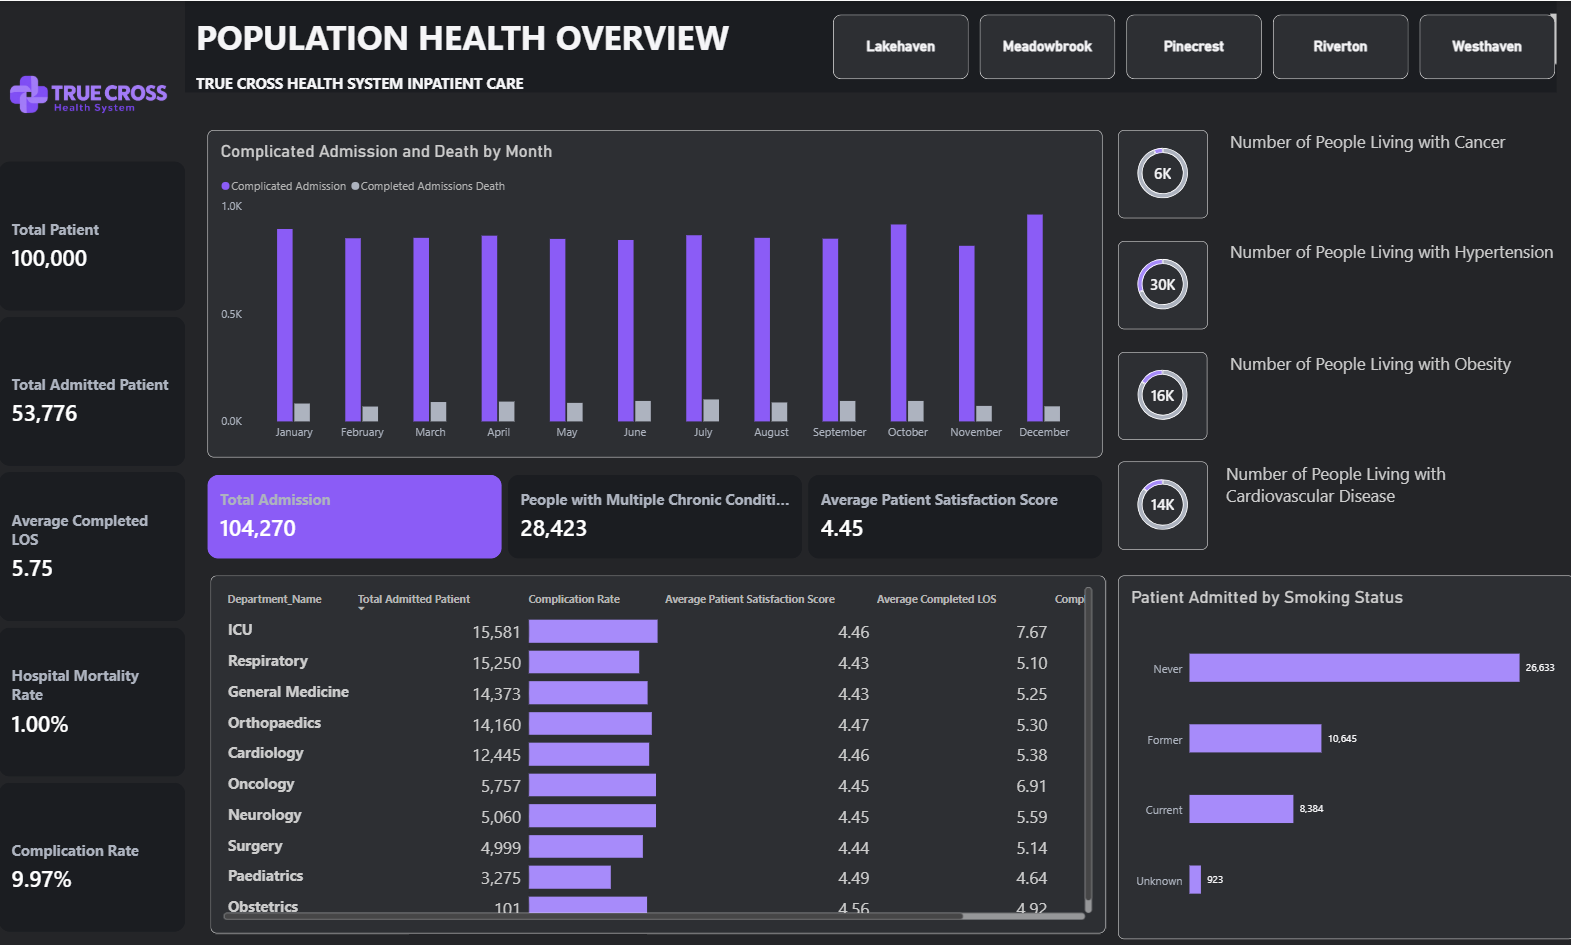

The dashboard page shown, as its layout file describes it:
{"tool":"powerbi","page":{"name":"Population Health","canvas":[2000,1200],"ordinal":1},"visuals":[{"type":"clusteredColumnChart","title":"Complicated Admission and Death by Month","fields":{"Category":["DimCalendar.Month Name"],"Y":["DimMeasure.Complicated Admission","DimMeasure.Completed Admissions Death"]},"box":[265,163.3,1135,415],"z":0},{"type":"clusteredBarChart","title":"Patient Admitted by Smoking Status","fields":{"Category":["DimPatient.Smoking_Status"],"Y":["DimMeasure.Total Admitted Patient"]},"box":[1419.6,728.7,579.7,461.4],"z":1000},{"type":"donutChart","title":"Total Documented Cost by Payer Type","fields":{"Category":["DimPatient.Cancer_Flag"],"Y":["DimMeasure.Total Patient"]},"box":[1419.6,163.3,114,112],"z":2000},{"type":"cardVisual","fields":{"Data":["DimMeasure.Total Admission","DimMeasure.People with Multiple Chronic Condition","DimMeasure.Average Patient Satisfaction Score"]},"box":[265,601,1135,106],"z":3000},{"type":"textbox","box":[236.6,0,1740,115.9],"z":4000},{"type":"advancedSlicerVisual","fields":{"Values":["DimHospital.City"]},"box":[1057.6,16.6,918,82.8],"z":5000},{"type":"image","box":[0,0,225.8,235.3],"z":6000},{"type":"cardVisual","fields":{"Data":["DimMeasure.Total Patient","DimMeasure.Total Admitted Patient","DimMeasure.Average Completed LOS","DimMeasure.Hospital Mortality Rate","DimMeasure.Complication Rate"]},"box":[0,203.5,236.6,979.5],"z":7000},{"type":"donutChart","title":"Total Documented Cost by Payer Type","fields":{"Category":["DimPatient.Cardiovascular_Disease_Flag"],"Y":["DimMeasure.Total Patient"]},"box":[1419.6,584.4,114,112],"z":8000},{"type":"donutChart","title":"Total Documented Cost by Payer Type","fields":{"Category":["DimPatient.Obesity_Flag"],"Y":["DimMeasure.Total Patient"]},"box":[1419.6,444.5,113.6,111.2],"z":9000},{"type":"donutChart","title":"Total Documented Cost by Payer Type","fields":{"Category":["DimPatient.Hypertension_Flag"],"Y":["DimMeasure.Total Patient"]},"box":[1419.6,303.9,114,112],"z":10000},{"type":"textbox","box":[1556.8,163.3,421.1,56.8],"z":11000},{"type":"textbox","box":[1556.8,302.8,421.1,56.8],"z":12000},{"type":"textbox","box":[1556.8,444.8,421.1,54.4],"z":13000},{"type":"textbox","box":[1556.8,584.4,421.1,82.8],"z":14000},{"type":"pivotTable","fields":{"Rows":["DimDepartment.Department_Name"],"Values":["DimMeasure.Total Admitted Patient","DimMeasure.Complication Rate","DimMeasure.Average Patient Satisfaction Score","DimMeasure.Average Completed LOS","DimMeasure.Completed Admissions Death"]},"box":[267.4,728.7,1135.7,454.3],"z":15000}]}

Visuals, with their boxes in screenshot pixels (x1, y1, x2, y2), scaled from the page's 2000x1200 canvas onto the 1571x945 screenshot:
"Complicated Admission and Death by Month" clusteredColumnChart: (x1=208, y1=129, x2=1100, y2=455)
"Patient Admitted by Smoking Status" clusteredBarChart: (x1=1115, y1=574, x2=1570, y2=937)
"Total Documented Cost by Payer Type" donutChart: (x1=1115, y1=129, x2=1205, y2=217)
cardVisual - DimMeasure.Total Admission x DimMeasure.People with Multiple Chronic Condition: (x1=208, y1=473, x2=1100, y2=557)
textbox: (x1=186, y1=0, x2=1553, y2=91)
advancedSlicerVisual - DimHospital.City: (x1=831, y1=13, x2=1552, y2=78)
image: (x1=0, y1=0, x2=177, y2=185)
cardVisual - DimMeasure.Total Patient x DimMeasure.Total Admitted Patient: (x1=0, y1=160, x2=186, y2=932)
"Total Documented Cost by Payer Type" donutChart: (x1=1115, y1=460, x2=1205, y2=548)
"Total Documented Cost by Payer Type" donutChart: (x1=1115, y1=350, x2=1204, y2=438)
"Total Documented Cost by Payer Type" donutChart: (x1=1115, y1=239, x2=1205, y2=328)
textbox: (x1=1223, y1=129, x2=1554, y2=173)
textbox: (x1=1223, y1=238, x2=1554, y2=283)
textbox: (x1=1223, y1=350, x2=1554, y2=393)
textbox: (x1=1223, y1=460, x2=1554, y2=525)
pivotTable - DimDepartment.Department_Name x DimMeasure.Total Admitted Patient: (x1=210, y1=574, x2=1102, y2=932)
